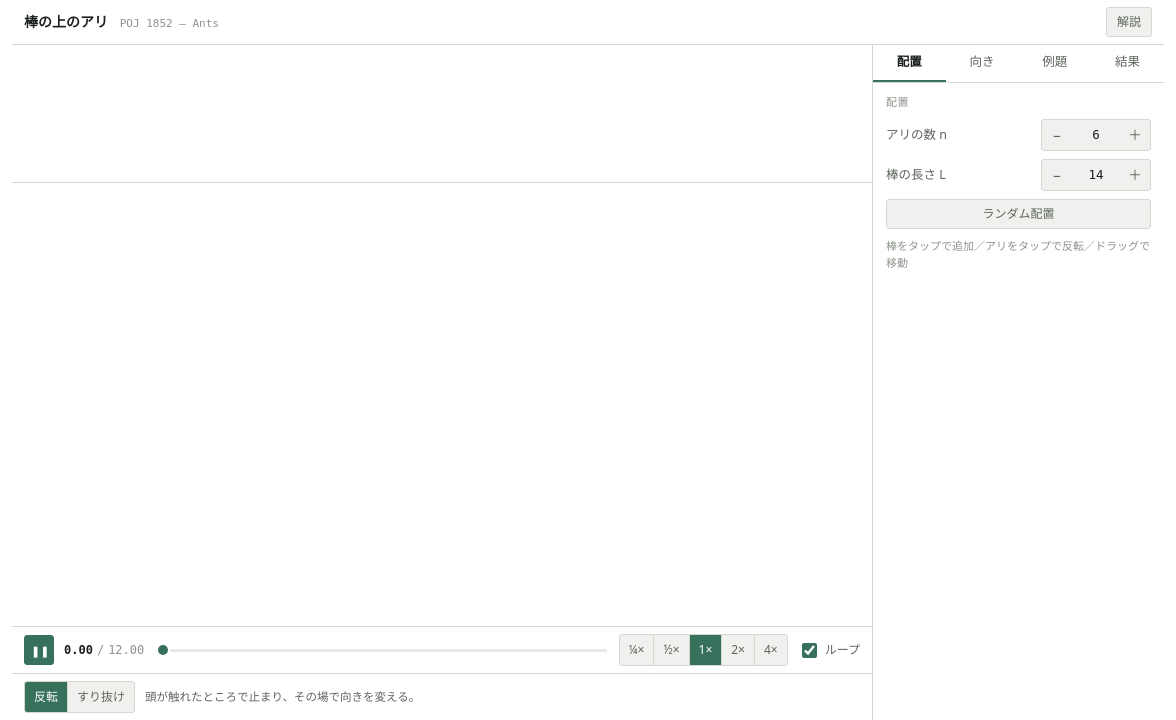
App（スマホ幅） › タブに畳まれるが、どの操作にも到達できる
Expected: the element showing "配置 向き 例題 結果" is shown, [873,45,1164,83]
Expected: the text "アリの数 n" is shown, [886,126,947,145]
Click the tab "向き" at (982, 63), box [946,45,1019,82]
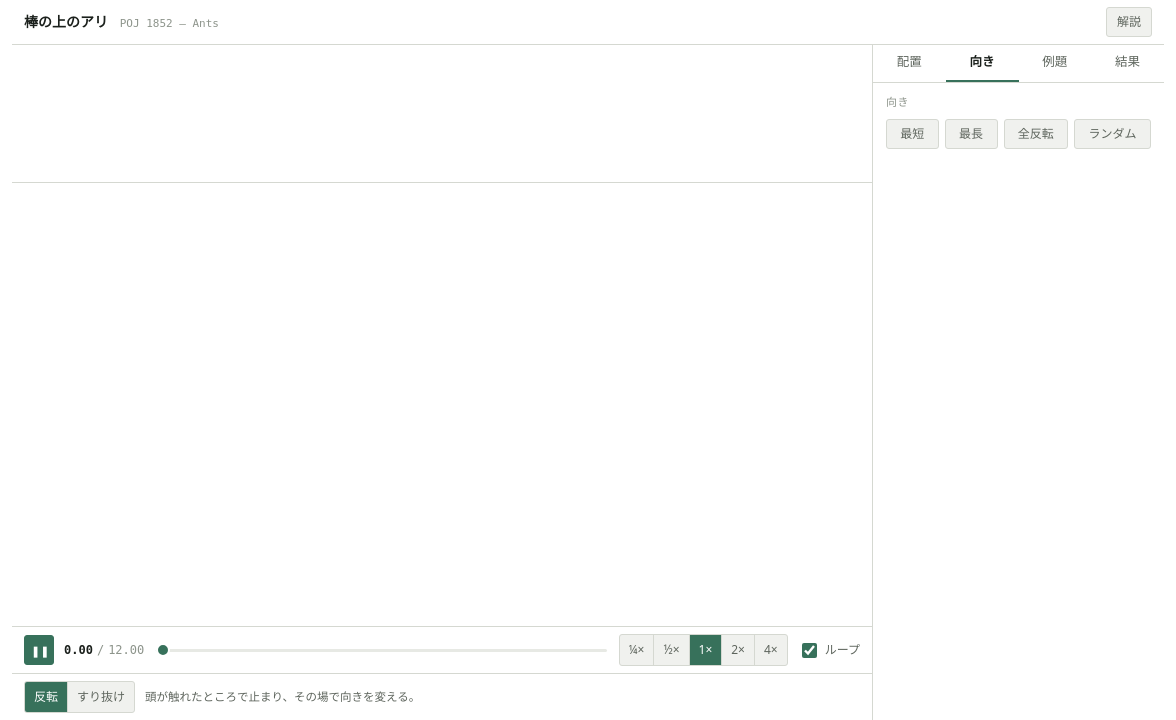
Expected: the button "最長" is shown, [945,119,998,149]
Click the tab "例題" at (1055, 63), box [1018,45,1091,82]
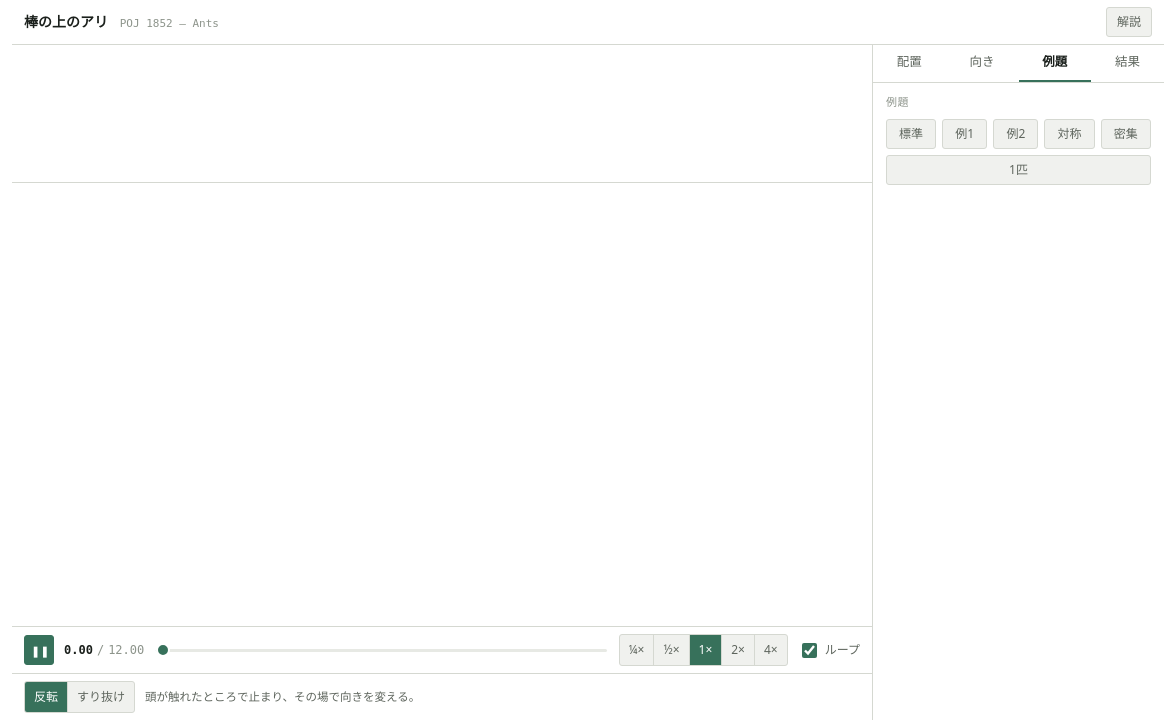
Expected: the button "例1" is shown, [942,119,987,149]
Click the tab "結果" at (1128, 63), box [1091,45,1164,82]
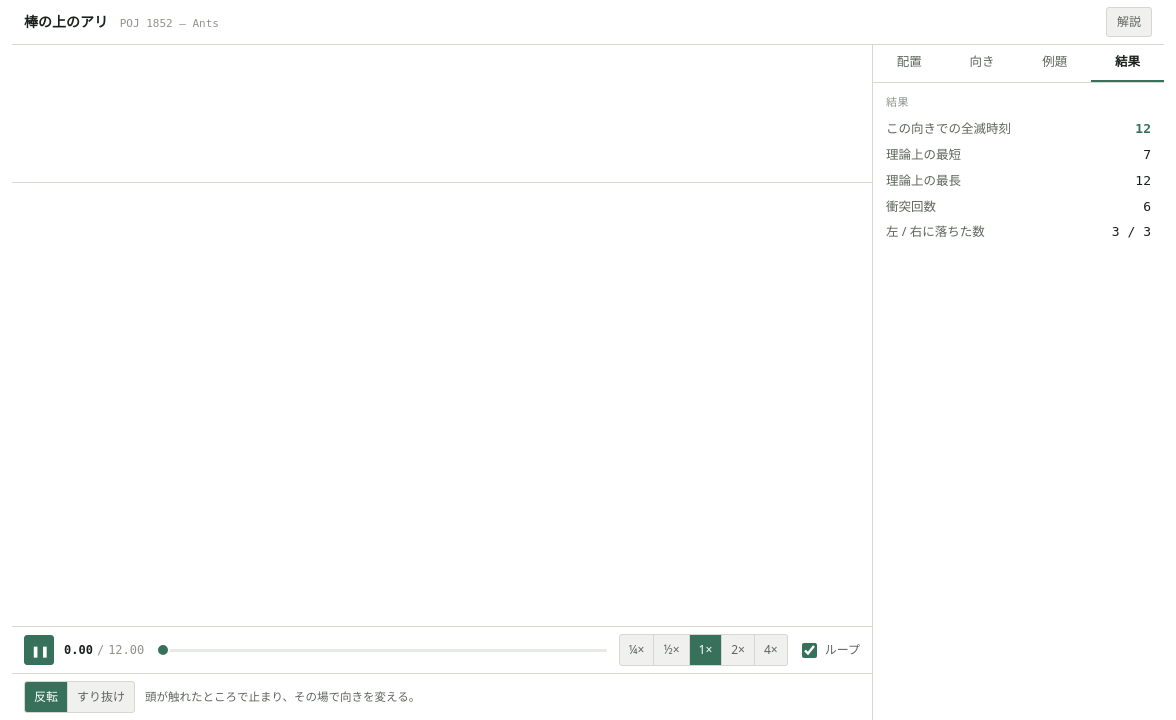
Click the tab "配置" at (909, 63), box [873,45,946,82]
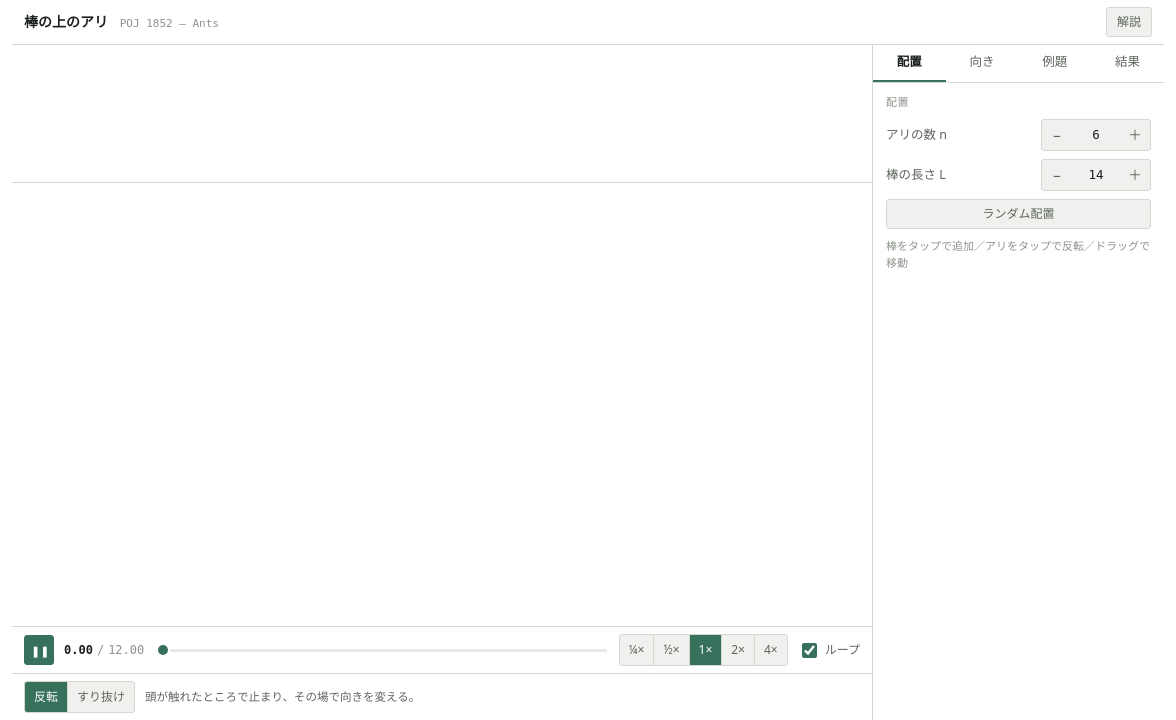
Expected: the text "棒の長さ L" is shown, [886,166,946,185]
